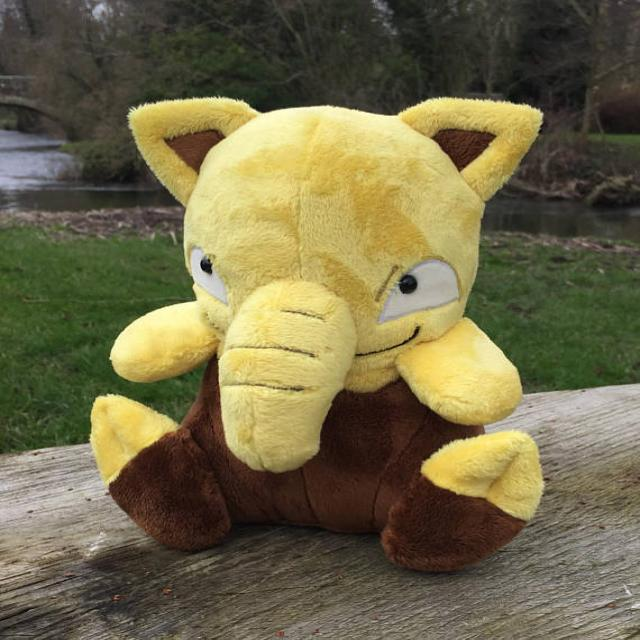Drowzee: (93, 84, 553, 578)
